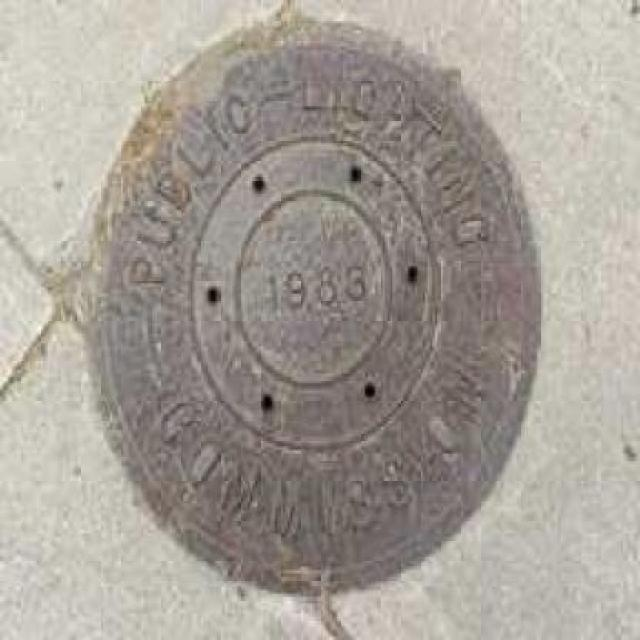Manhole: (63, 6, 560, 612)
